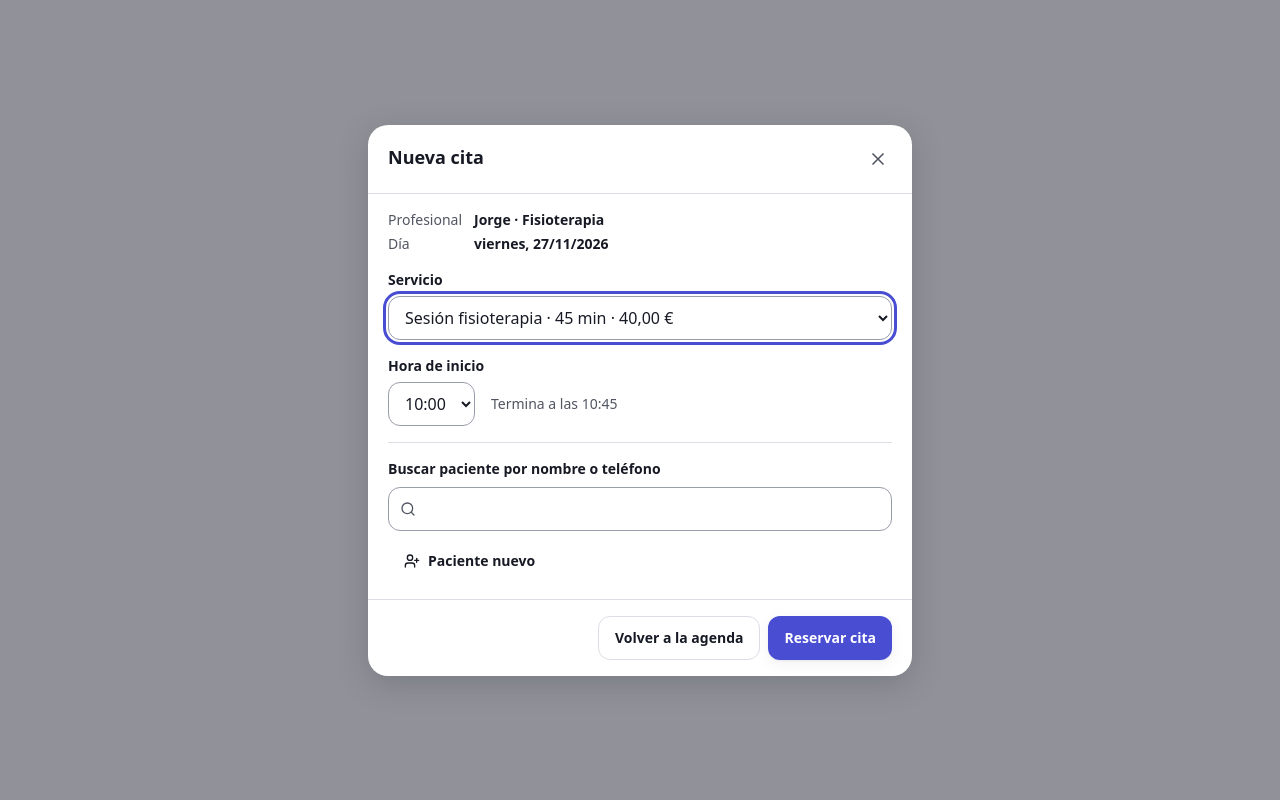
Test case: DialogoAltaCita › [001][FR-016] ante un 409 muestra el mensaje del API arriba y conserva servicio, hora y paciente elegido
The width and height of the screenshot is (1280, 800).
Select "Primera visita fisioterapia · 60 min · 50,00 €" in the dropdown labelled "Servicio": point(640, 318) [388,296,892,340]
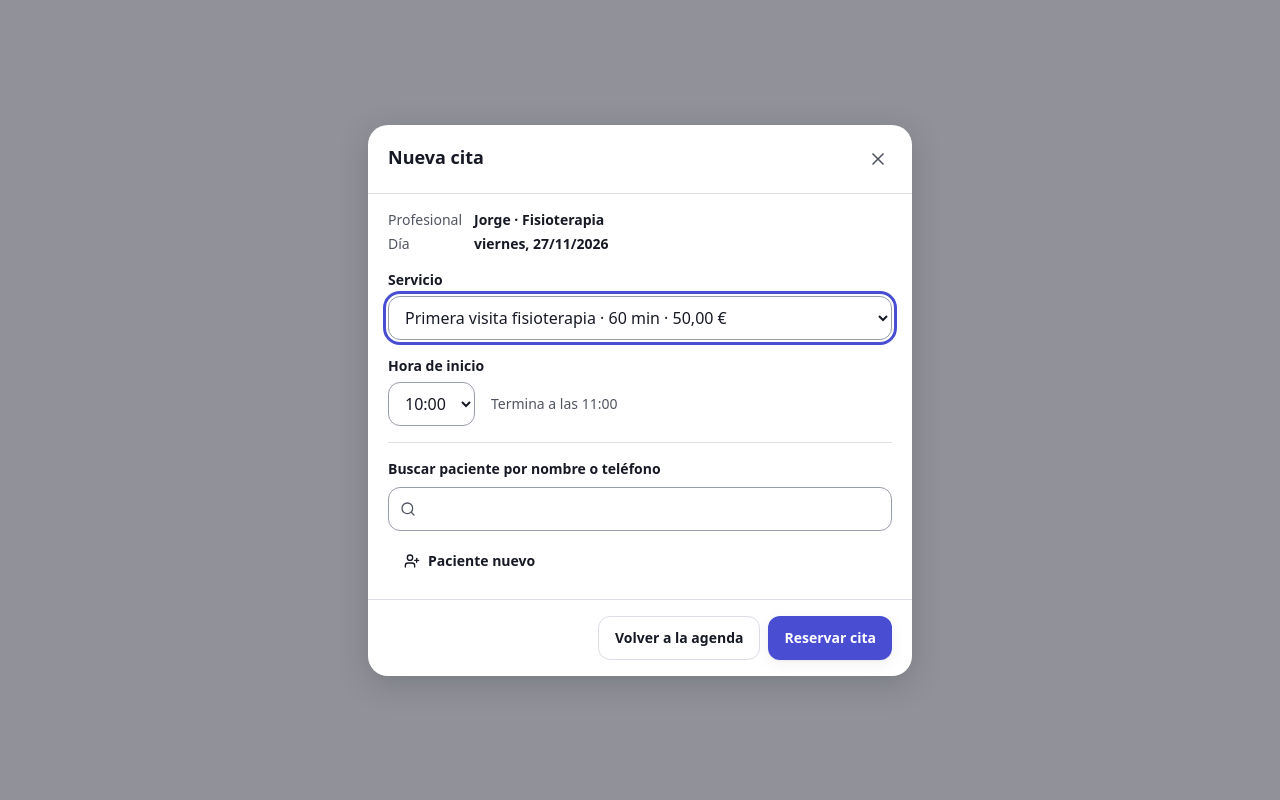
Select "10:30" in the dropdown labelled "Hora de inicio": point(432, 404) [388,382,475,426]
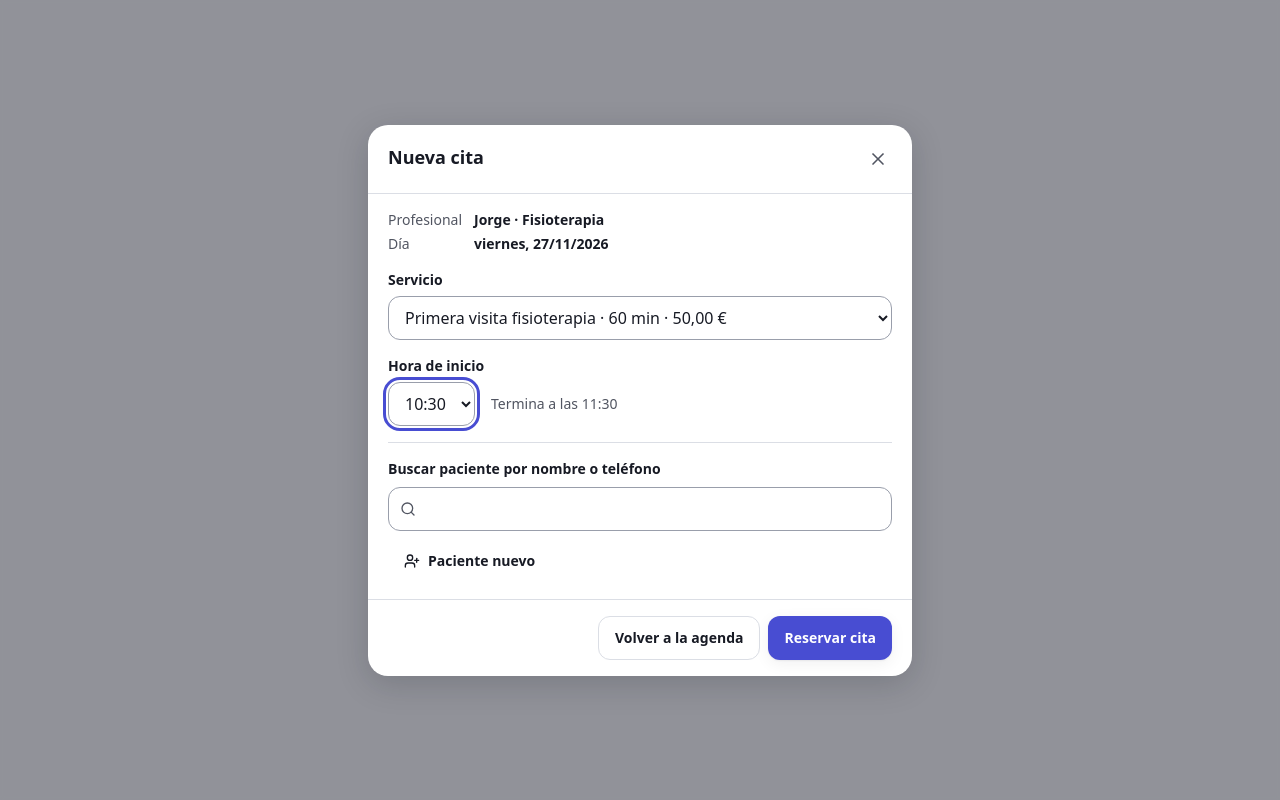
In the dropdown labelled "Buscar paciente por nombre o teléfono": point(640, 508) [388,486,892,530], type "ana"
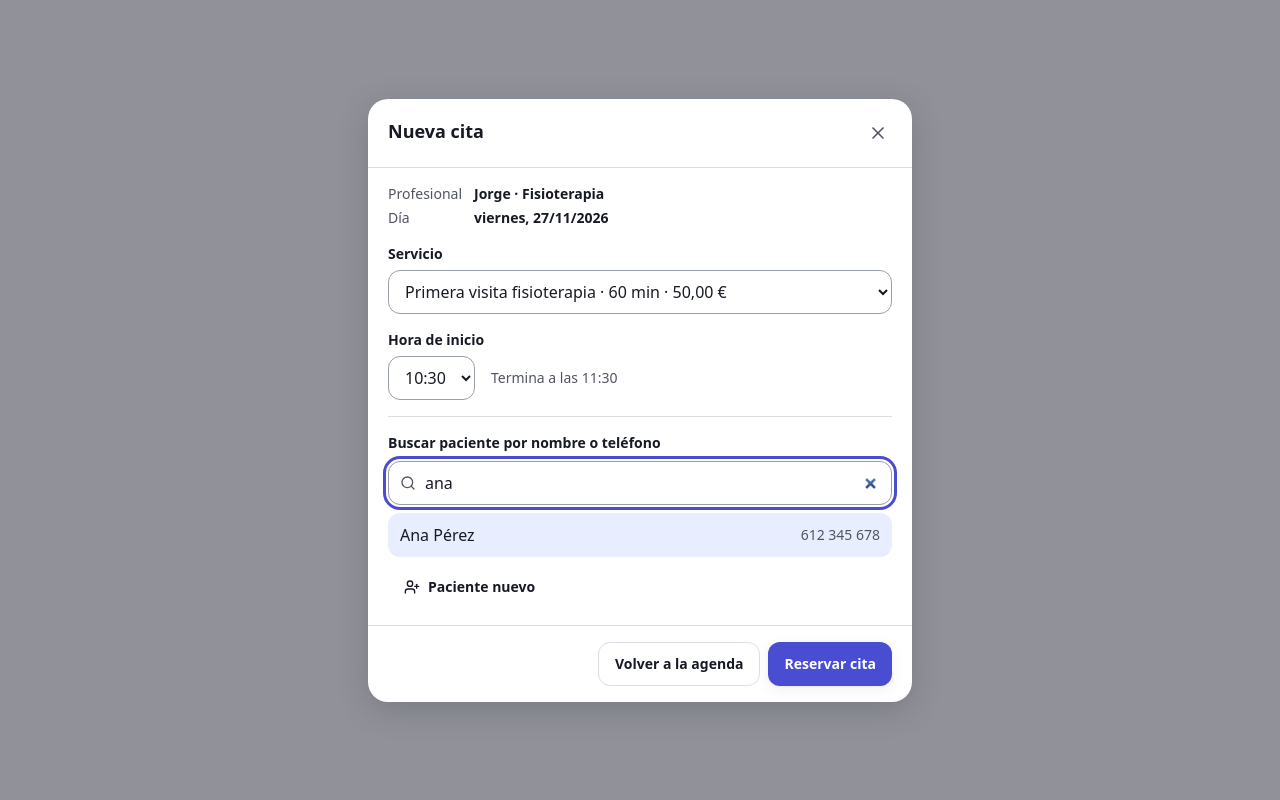
Click the option "Ana Pérez 612 345 678": point(437, 534) [388,512,892,556]
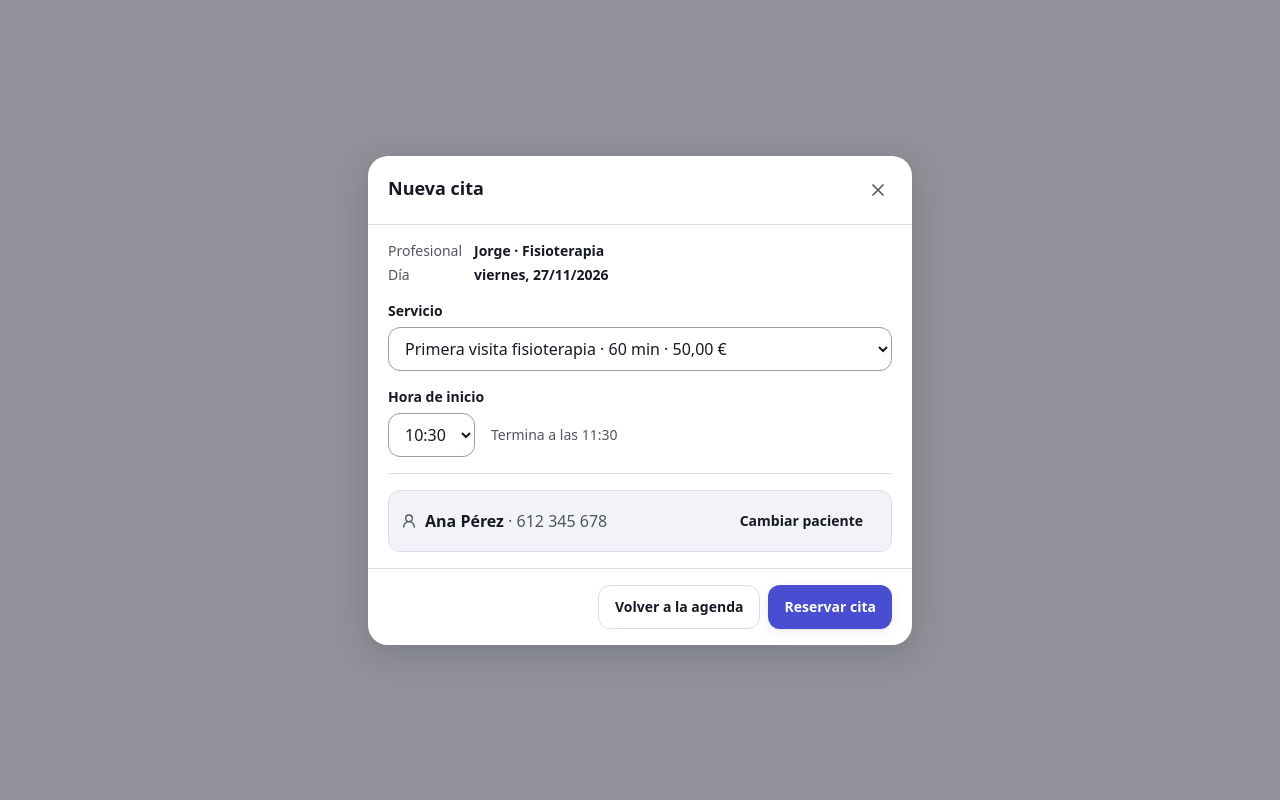
Click the button "Reservar cita": point(830, 606) [768,584,892,628]
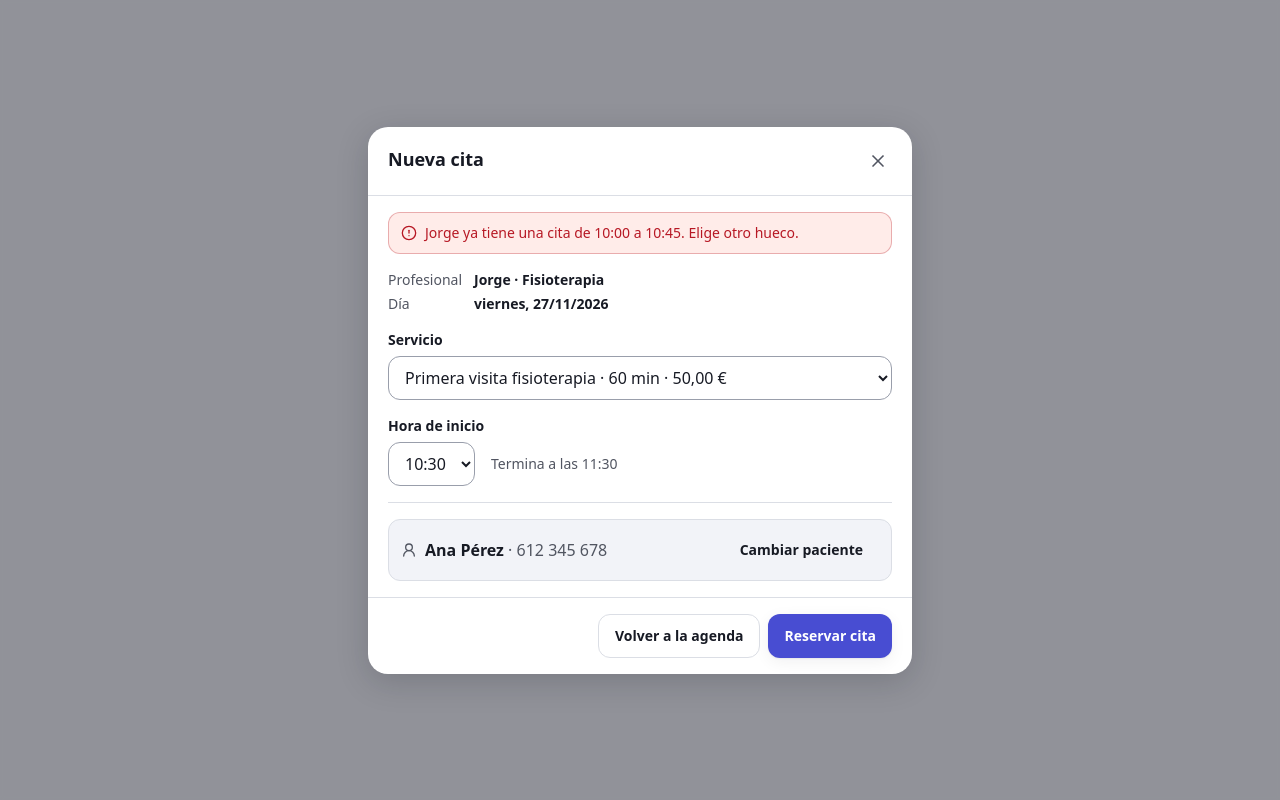
Now the text "Ana Pérez" is shown, box [425,538,504,560]
Now the message reads "Jorge ya tiene una cita de 10:00 a 10:45. Elige otro hueco.", box [425,222,799,242]
